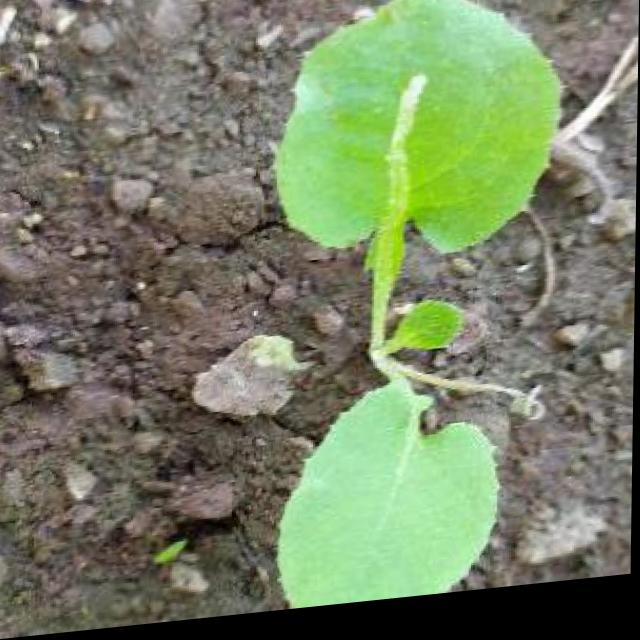weed: (382, 0, 532, 608)
